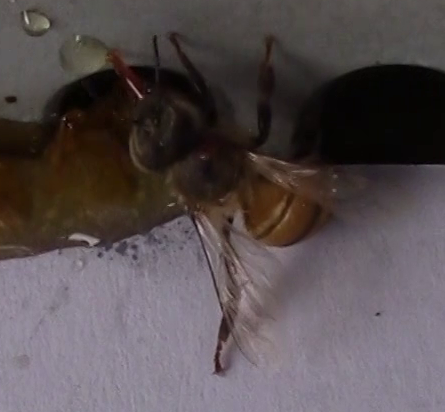Varroa destructor: (195, 130, 224, 159)
